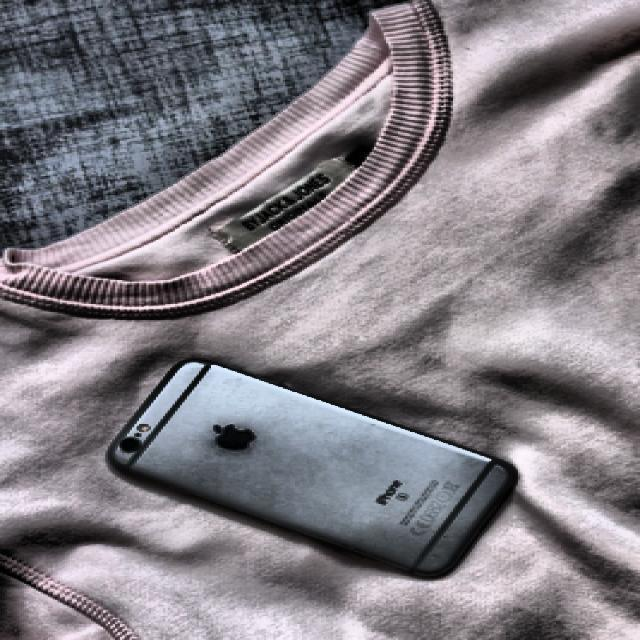Phone: (104, 356, 522, 584)
